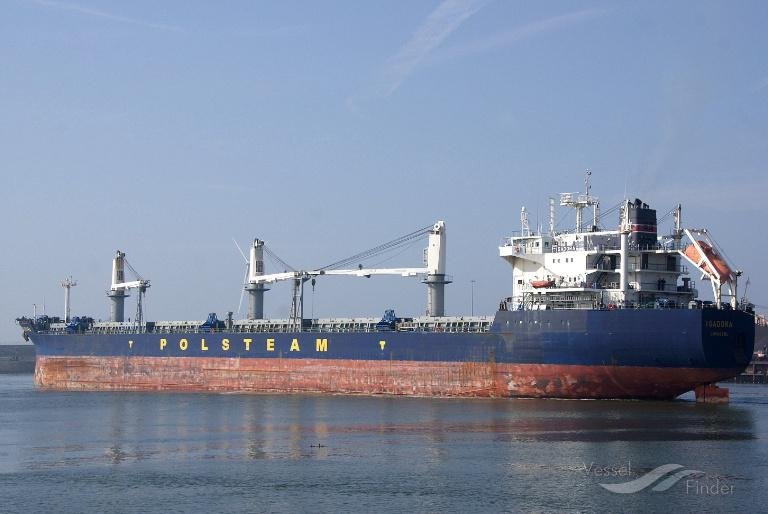OCR: (156, 336, 394, 362)
